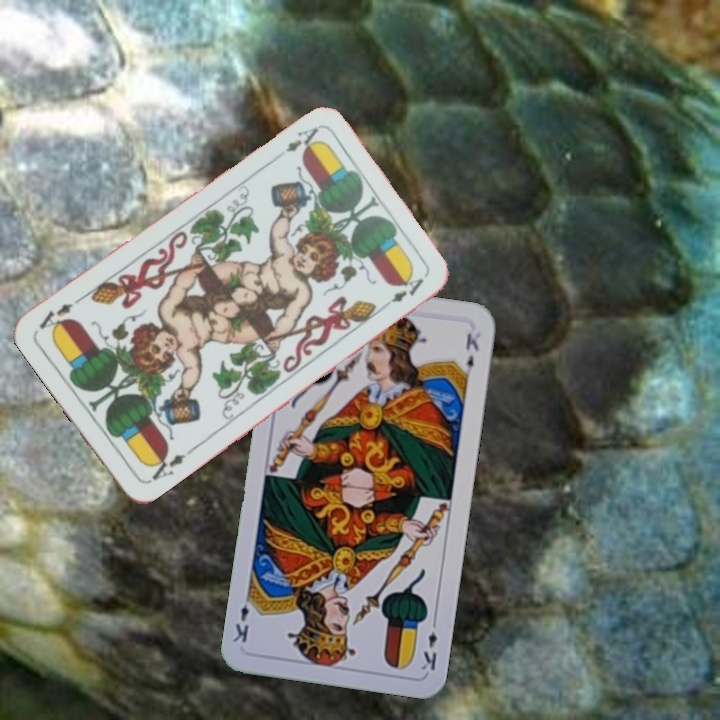EA: (142, 445, 195, 486), (281, 123, 323, 158)
EK: (417, 614, 440, 673)
